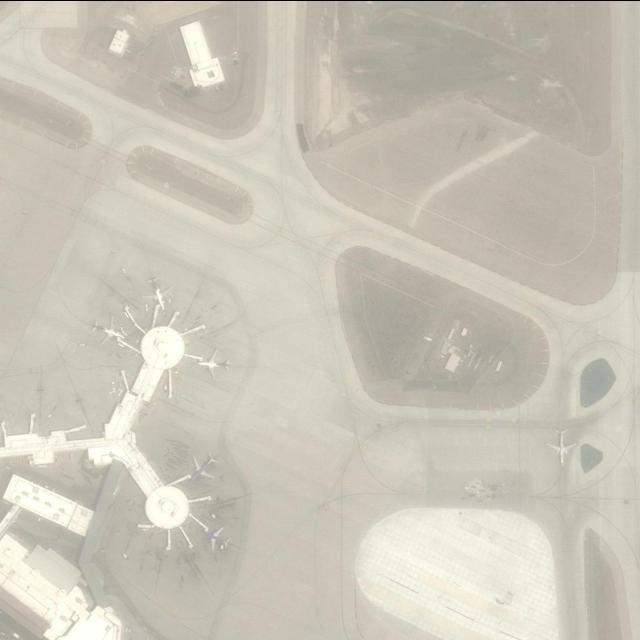Aircraft: (196, 347, 232, 377), (89, 316, 127, 344), (549, 429, 577, 464), (145, 276, 170, 312), (202, 525, 234, 553), (189, 452, 217, 482)
